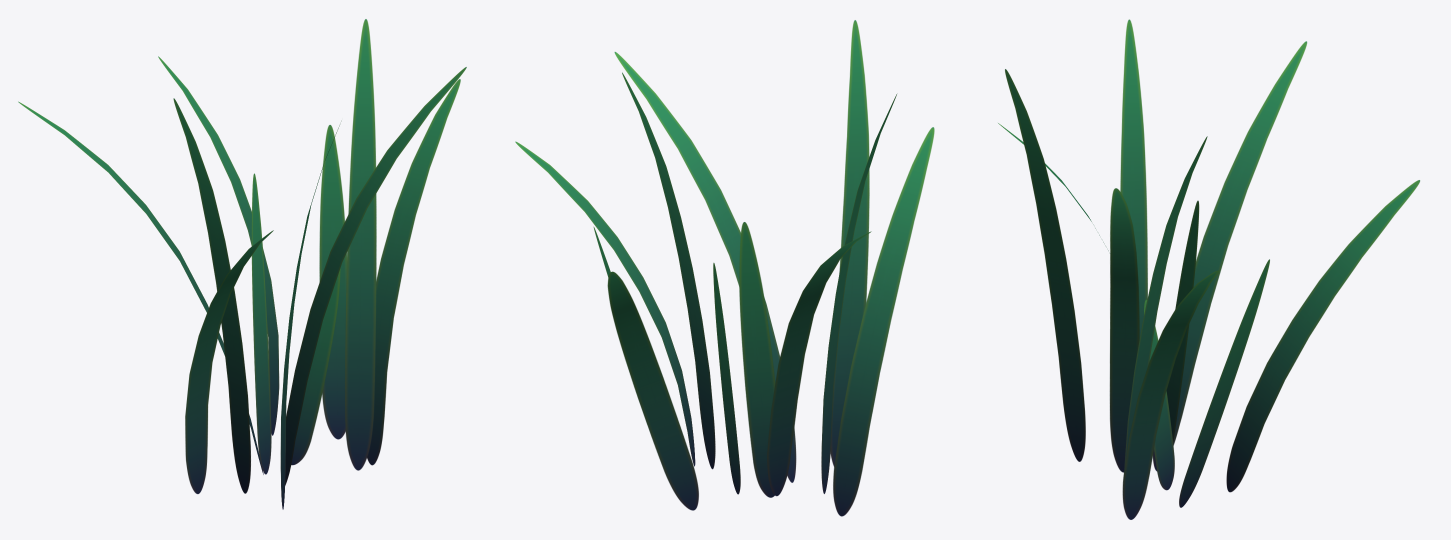
The model's file is stylized_grass_bush.glb.
3 views of the same model, side by side, from view 1: azimuth 30°, elevation 25°; view 2: azimuth 150°, elevation 25°; view 3: azimuth 270°, elevation 25° (orthographic). The views are drawn at different scales.
Visible parts, largest first — view 1: Grass:Grass_low9_Grass:Grass_MAT_0.001, Grass:Grass_low7_Grass:Grass_MAT_0.001, Grass:Grass_low8_Grass:Grass_MAT_0.001, Grass:Grass_low11_Grass:Grass_MAT_0.001, Grass:Grass_Master3_Grass:Grass_MAT_0.001, Grass:Grass_low10_Grass:Grass_MAT_0.001, Grass:Grass_Master1_Grass:Grass_MAT_0.001, Grass:Grass_low13_Grass:Grass_MAT_0.001, Grass:Grass_Master2_Grass:Grass_MAT_0.001, Grass:Grass_low12_Grass:Grass_MAT_0.001, Grass:Grass_low6_Grass:Grass_MAT_0.001; view 2: Grass:Grass_low10_Grass:Grass_MAT_0.001, Grass:Grass_low6_Grass:Grass_MAT_0.001, Grass:Grass_low13_Grass:Grass_MAT_0.001, Grass:Grass_Master1_Grass:Grass_MAT_0.001, Grass:Grass_low12_Grass:Grass_MAT_0.001, Grass:Grass_low8_Grass:Grass_MAT_0.001, Grass:Grass_low9_Grass:Grass_MAT_0.001, Grass:Grass_low7_Grass:Grass_MAT_0.001, Grass:Grass_low11_Grass:Grass_MAT_0.001, Grass:Grass_Master2_Grass:Grass_MAT_0.001; view 3: Grass:Grass_low13_Grass:Grass_MAT_0.001, Grass:Grass_low6_Grass:Grass_MAT_0.001, Grass:Grass_low12_Grass:Grass_MAT_0.001, Grass:Grass_low8_Grass:Grass_MAT_0.001, Grass:Grass_low7_Grass:Grass_MAT_0.001, Grass:Grass_low11_Grass:Grass_MAT_0.001, Grass:Grass_Master3_Grass:Grass_MAT_0.001, Grass:Grass_low9_Grass:Grass_MAT_0.001, Grass:Grass_Master1_Grass:Grass_MAT_0.001, Grass:Grass_Master2_Grass:Grass_MAT_0.001.
Part boxes in pixels (bbox=[...]): Grass:Grass_low9_Grass:Grass_MAT_0.001: bbox=[344, 19, 376, 470]; Grass:Grass_low7_Grass:Grass_MAT_0.001: bbox=[367, 79, 460, 465]; Grass:Grass_low8_Grass:Grass_MAT_0.001: bbox=[285, 67, 466, 485]; Grass:Grass_low11_Grass:Grass_MAT_0.001: bbox=[173, 98, 250, 493]; Grass:Grass_Master3_Grass:Grass_MAT_0.001: bbox=[319, 125, 346, 439]; Grass:Grass_low10_Grass:Grass_MAT_0.001: bbox=[185, 230, 273, 493]; Grass:Grass_Master1_Grass:Grass_MAT_0.001: bbox=[251, 173, 271, 474]; Grass:Grass_low13_Grass:Grass_MAT_0.001: bbox=[158, 56, 279, 435]; Grass:Grass_Master2_Grass:Grass_MAT_0.001: bbox=[291, 268, 340, 465]; Grass:Grass_low12_Grass:Grass_MAT_0.001: bbox=[18, 101, 263, 474]; Grass:Grass_low6_Grass:Grass_MAT_0.001: bbox=[280, 121, 341, 509]; Grass:Grass_low10_Grass:Grass_MAT_0.001: bbox=[833, 127, 934, 516]; Grass:Grass_low6_Grass:Grass_MAT_0.001: bbox=[830, 20, 869, 466]; Grass:Grass_low13_Grass:Grass_MAT_0.001: bbox=[607, 271, 698, 510]; Grass:Grass_Master1_Grass:Grass_MAT_0.001: bbox=[739, 222, 775, 497]; Grass:Grass_low12_Grass:Grass_MAT_0.001: bbox=[767, 231, 871, 496]; Grass:Grass_low8_Grass:Grass_MAT_0.001: bbox=[614, 52, 796, 482]; Grass:Grass_low9_Grass:Grass_MAT_0.001: bbox=[622, 72, 715, 469]; Grass:Grass_low7_Grass:Grass_MAT_0.001: bbox=[515, 141, 695, 466]; Grass:Grass_low11_Grass:Grass_MAT_0.001: bbox=[821, 94, 896, 493]; Grass:Grass_Master2_Grass:Grass_MAT_0.001: bbox=[713, 263, 740, 494]; Grass:Grass_low13_Grass:Grass_MAT_0.001: bbox=[1226, 180, 1419, 492]; Grass:Grass_low6_Grass:Grass_MAT_0.001: bbox=[1005, 69, 1085, 461]; Grass:Grass_low12_Grass:Grass_MAT_0.001: bbox=[1153, 41, 1307, 471]; Grass:Grass_low8_Grass:Grass_MAT_0.001: bbox=[1109, 188, 1139, 472]; Grass:Grass_low7_Grass:Grass_MAT_0.001: bbox=[1122, 270, 1219, 519]; Grass:Grass_low11_Grass:Grass_MAT_0.001: bbox=[1120, 19, 1147, 338]; Grass:Grass_Master3_Grass:Grass_MAT_0.001: bbox=[1179, 259, 1269, 507]; Grass:Grass_low9_Grass:Grass_MAT_0.001: bbox=[1124, 136, 1207, 469]; Grass:Grass_Master1_Grass:Grass_MAT_0.001: bbox=[1166, 200, 1199, 442]; Grass:Grass_Master2_Grass:Grass_MAT_0.001: bbox=[1144, 299, 1174, 490].
Bounding box in the file's own units: 13.86 × 13.52 × 13.21.
1 material, 1 textured.
